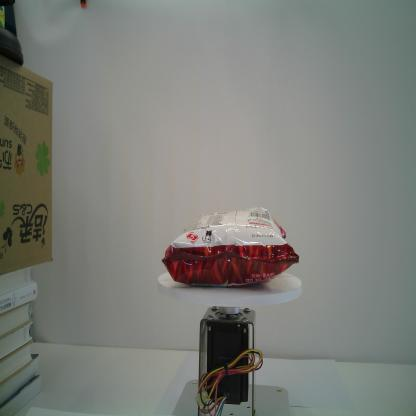Puffed Food: (161, 205, 301, 288)
